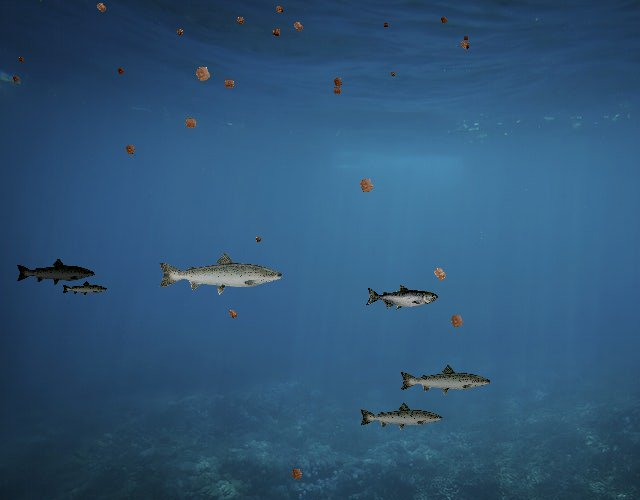Fish: (156, 250, 285, 296), (398, 363, 492, 397), (358, 401, 444, 432), (15, 258, 96, 287), (365, 285, 438, 311), (62, 281, 109, 298)
Pellet: (188, 58, 218, 88), (426, 261, 453, 288), (444, 308, 469, 334), (179, 112, 202, 135), (286, 463, 308, 485), (172, 25, 187, 40), (114, 64, 128, 78), (252, 233, 264, 245)
